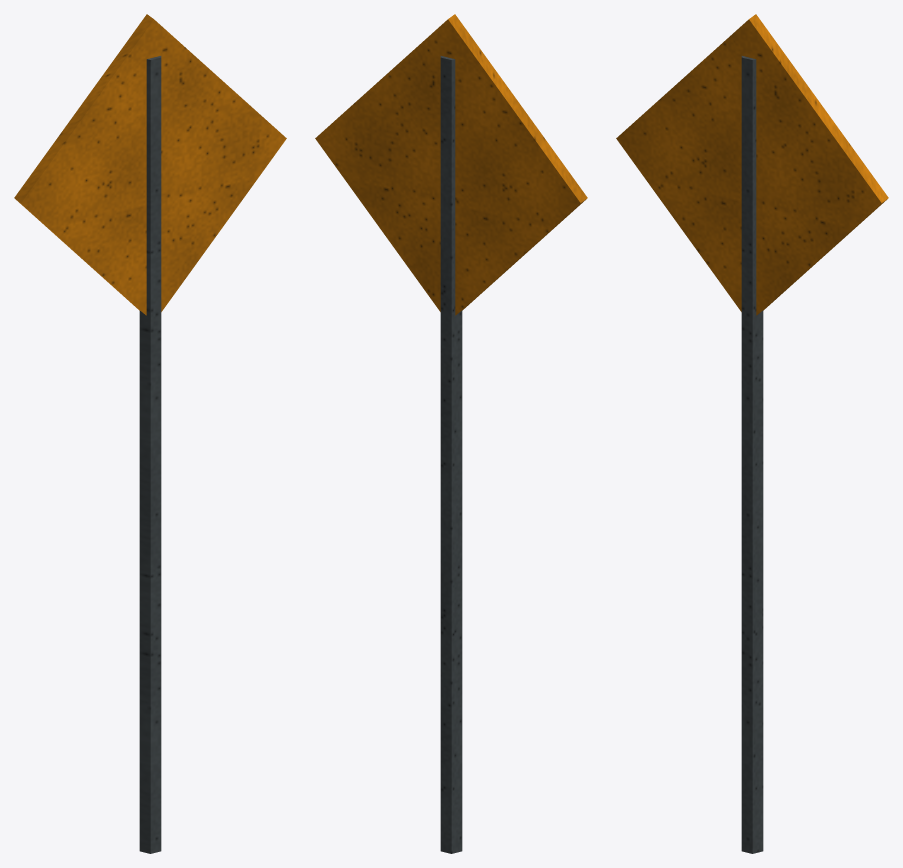
Rendered from PROP-373B78893E1E_lod2.glb.
3 renders of one model, left to right at view 1: azimuth 30°, elevation 25°; view 2: azimuth 150°, elevation 25°; view 3: azimuth 330°, elevation 25°, orthographic.
Visible parts, largest first — view 1: shaped_sign_plate.001, sign_post.001; view 2: shaped_sign_plate.001, sign_post.001; view 3: shaped_sign_plate.001, sign_post.001.
Part boxes in pixels (box(x1,y1,x2,y2)): shaped_sign_plate.001: box(14, 14, 286, 315); sign_post.001: box(139, 56, 161, 853); shaped_sign_plate.001: box(315, 14, 587, 315); sign_post.001: box(440, 56, 462, 853); shaped_sign_plate.001: box(616, 14, 888, 315); sign_post.001: box(741, 56, 763, 853).
Size of the model in its own units: 0.858 by 2.57 by 0.0606.
2 materials, 2 textured.
